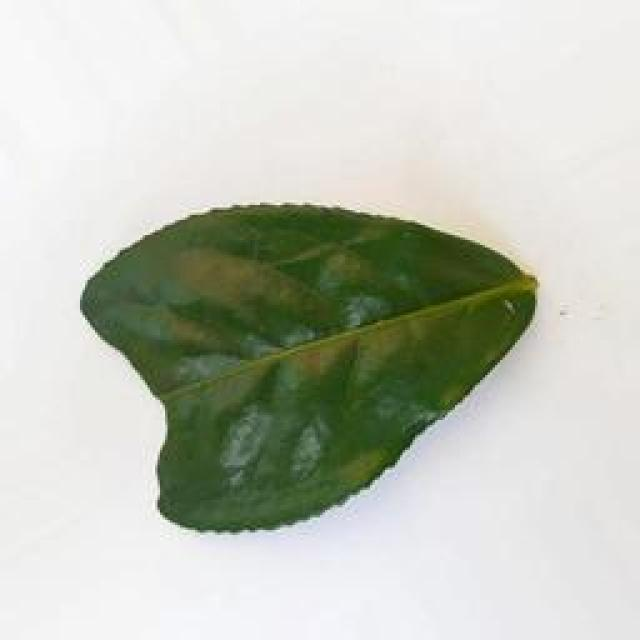Healthy: (76, 198, 539, 530)
